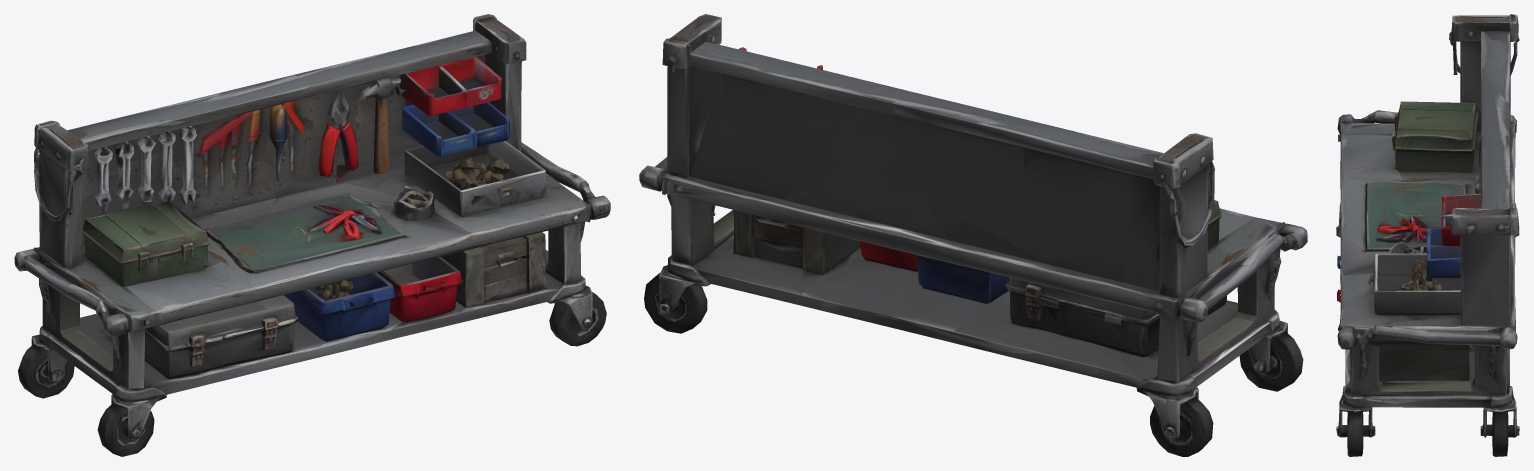
Rendered from workbench_electronics_mobilnaya_stoyka_idle.glb.
3 views of the same model, side by side, from view 1: azimuth 30°, elevation 25°; view 2: azimuth 150°, elevation 25°; view 3: azimuth 270°, elevation 25° (orthographic). The views are drawn at different scales.
Visible parts, largest first — view 1: tripo_node_3a08c667-8f44-44be-9bb1-538b92124d9d; view 2: tripo_node_3a08c667-8f44-44be-9bb1-538b92124d9d; view 3: tripo_node_3a08c667-8f44-44be-9bb1-538b92124d9d.
Boxes of the visible parts, x1=… form: tripo_node_3a08c667-8f44-44be-9bb1-538b92124d9d: x1=14, y1=14, x2=610, y2=456; tripo_node_3a08c667-8f44-44be-9bb1-538b92124d9d: x1=639, y1=14, x2=1307, y2=456; tripo_node_3a08c667-8f44-44be-9bb1-538b92124d9d: x1=1336, y1=14, x2=1519, y2=456.
Size of the model in its own units: 1.89 by 0.9484 by 0.6573.
1 material, 1 textured.
